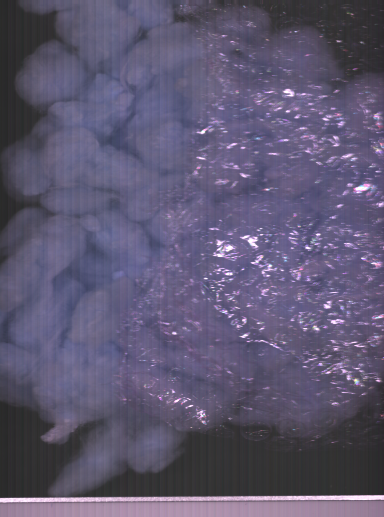Double_film_on_cotton: (230, 223, 349, 363)
Double_film_on_onPE: (238, 70, 362, 188), (175, 369, 337, 412), (171, 230, 219, 333), (223, 197, 358, 217)
